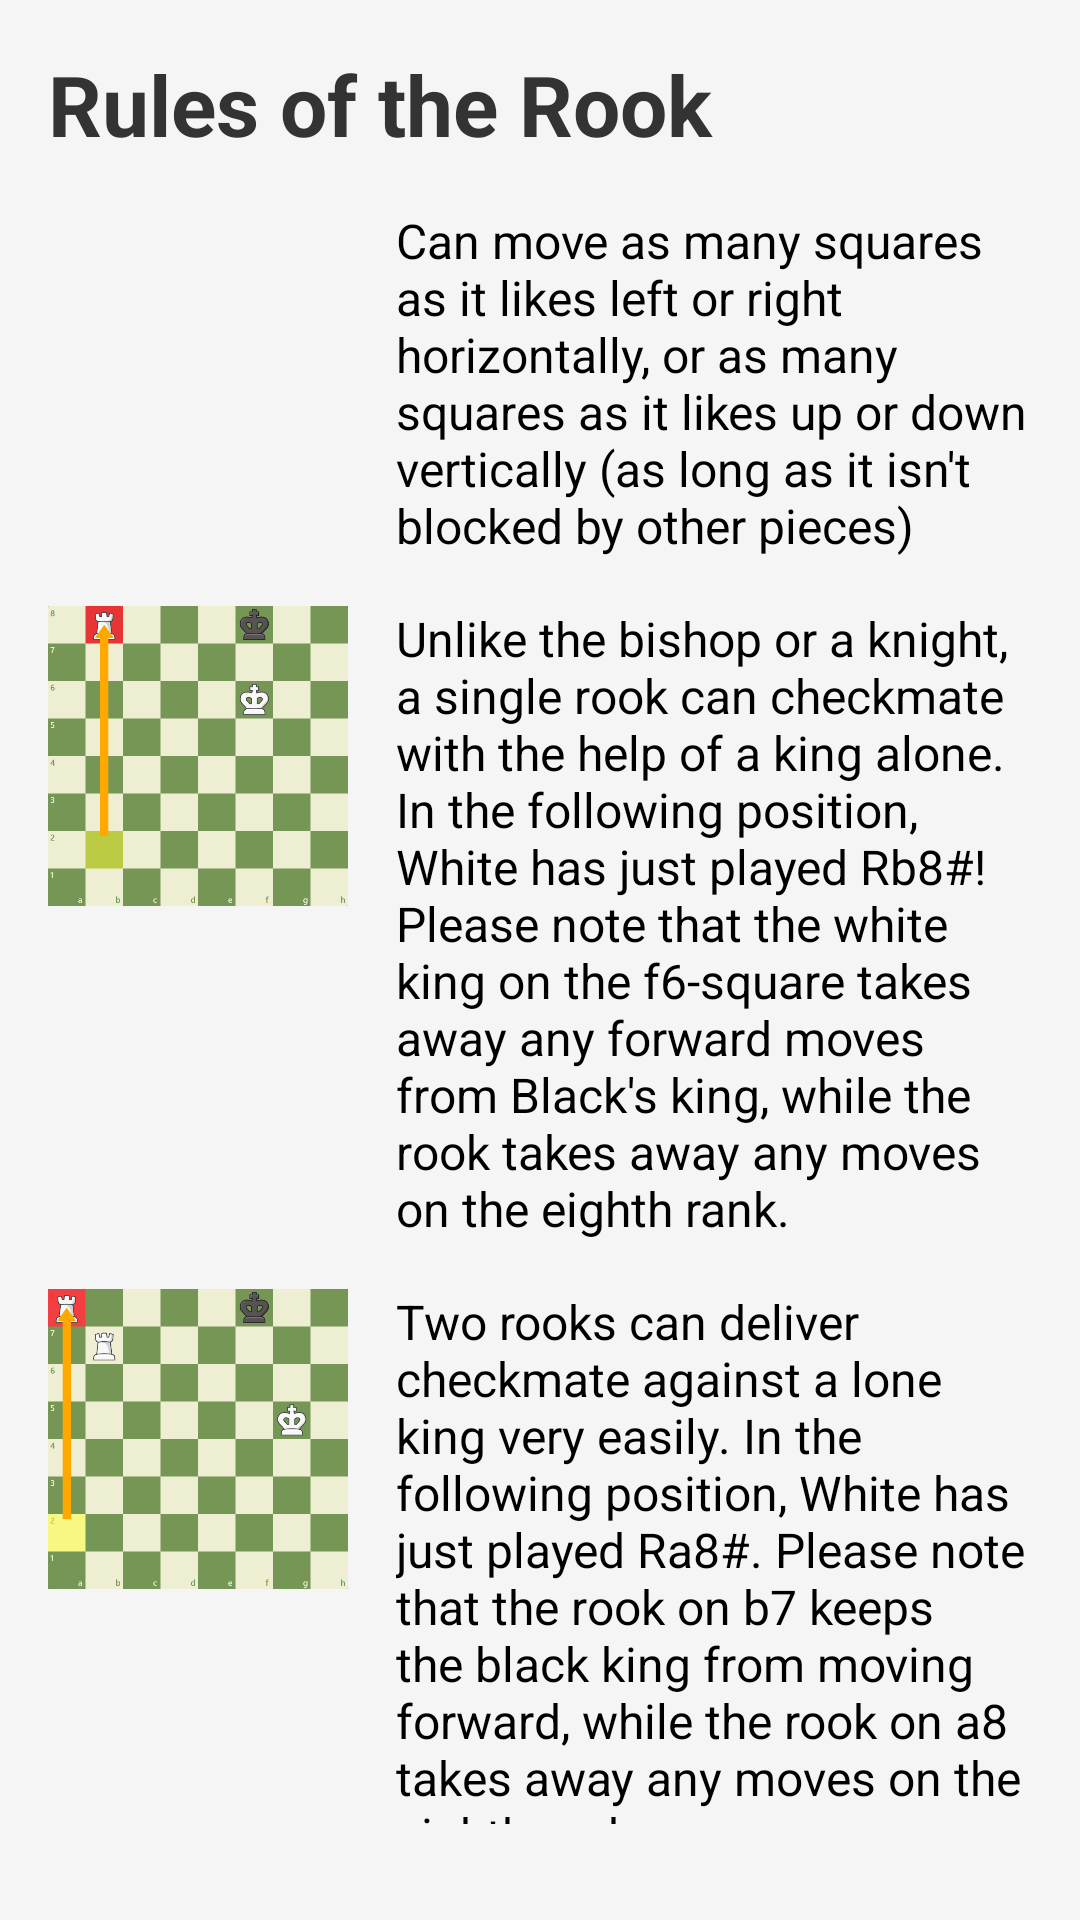

Screen size 1080×1920. Icon name, then its box in pixels as (x1, y1, x2, y2):
rookmoves: (48, 606, 348, 906), (48, 1289, 348, 1589)
